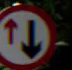Two way: (1, 3, 57, 67)
